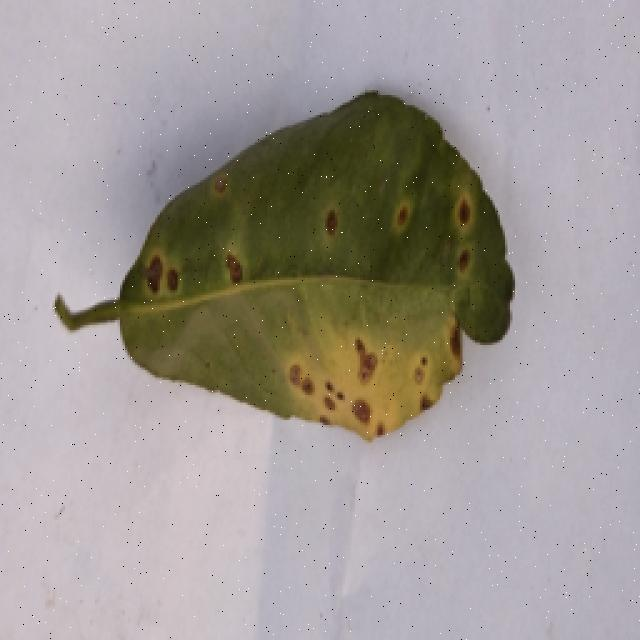canker: (132, 100, 507, 448)
